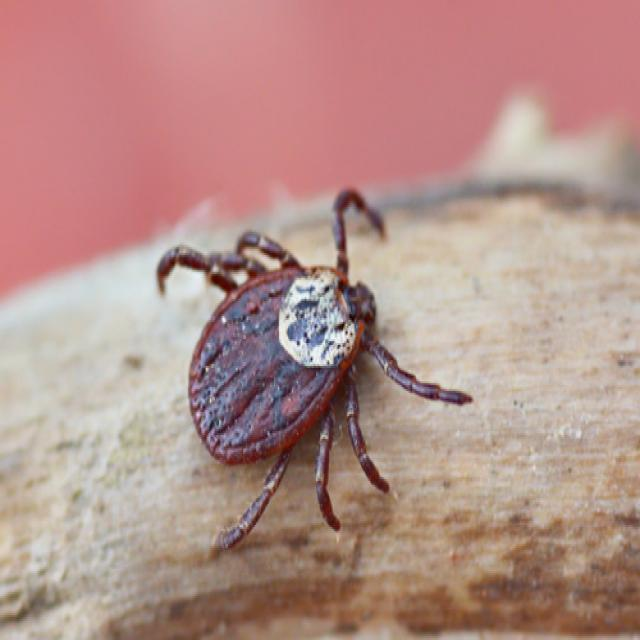Dermacentor Reticulatus-F: (155, 190, 472, 549)
